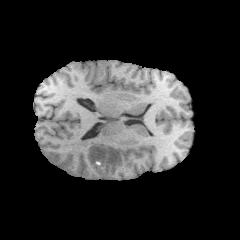glioma: (56, 134, 133, 177)
